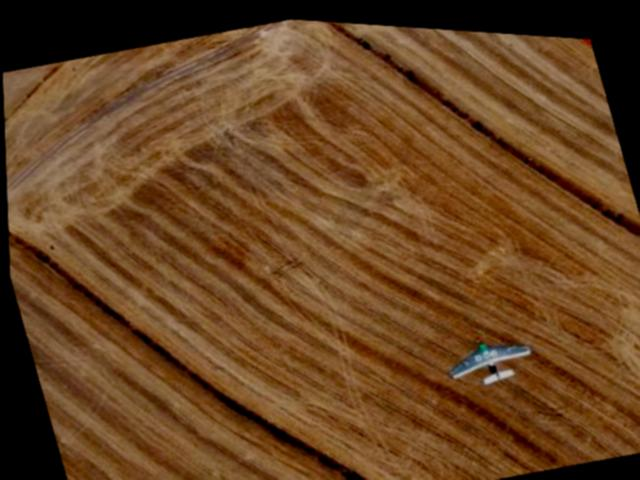uav: (434, 316, 537, 390)
